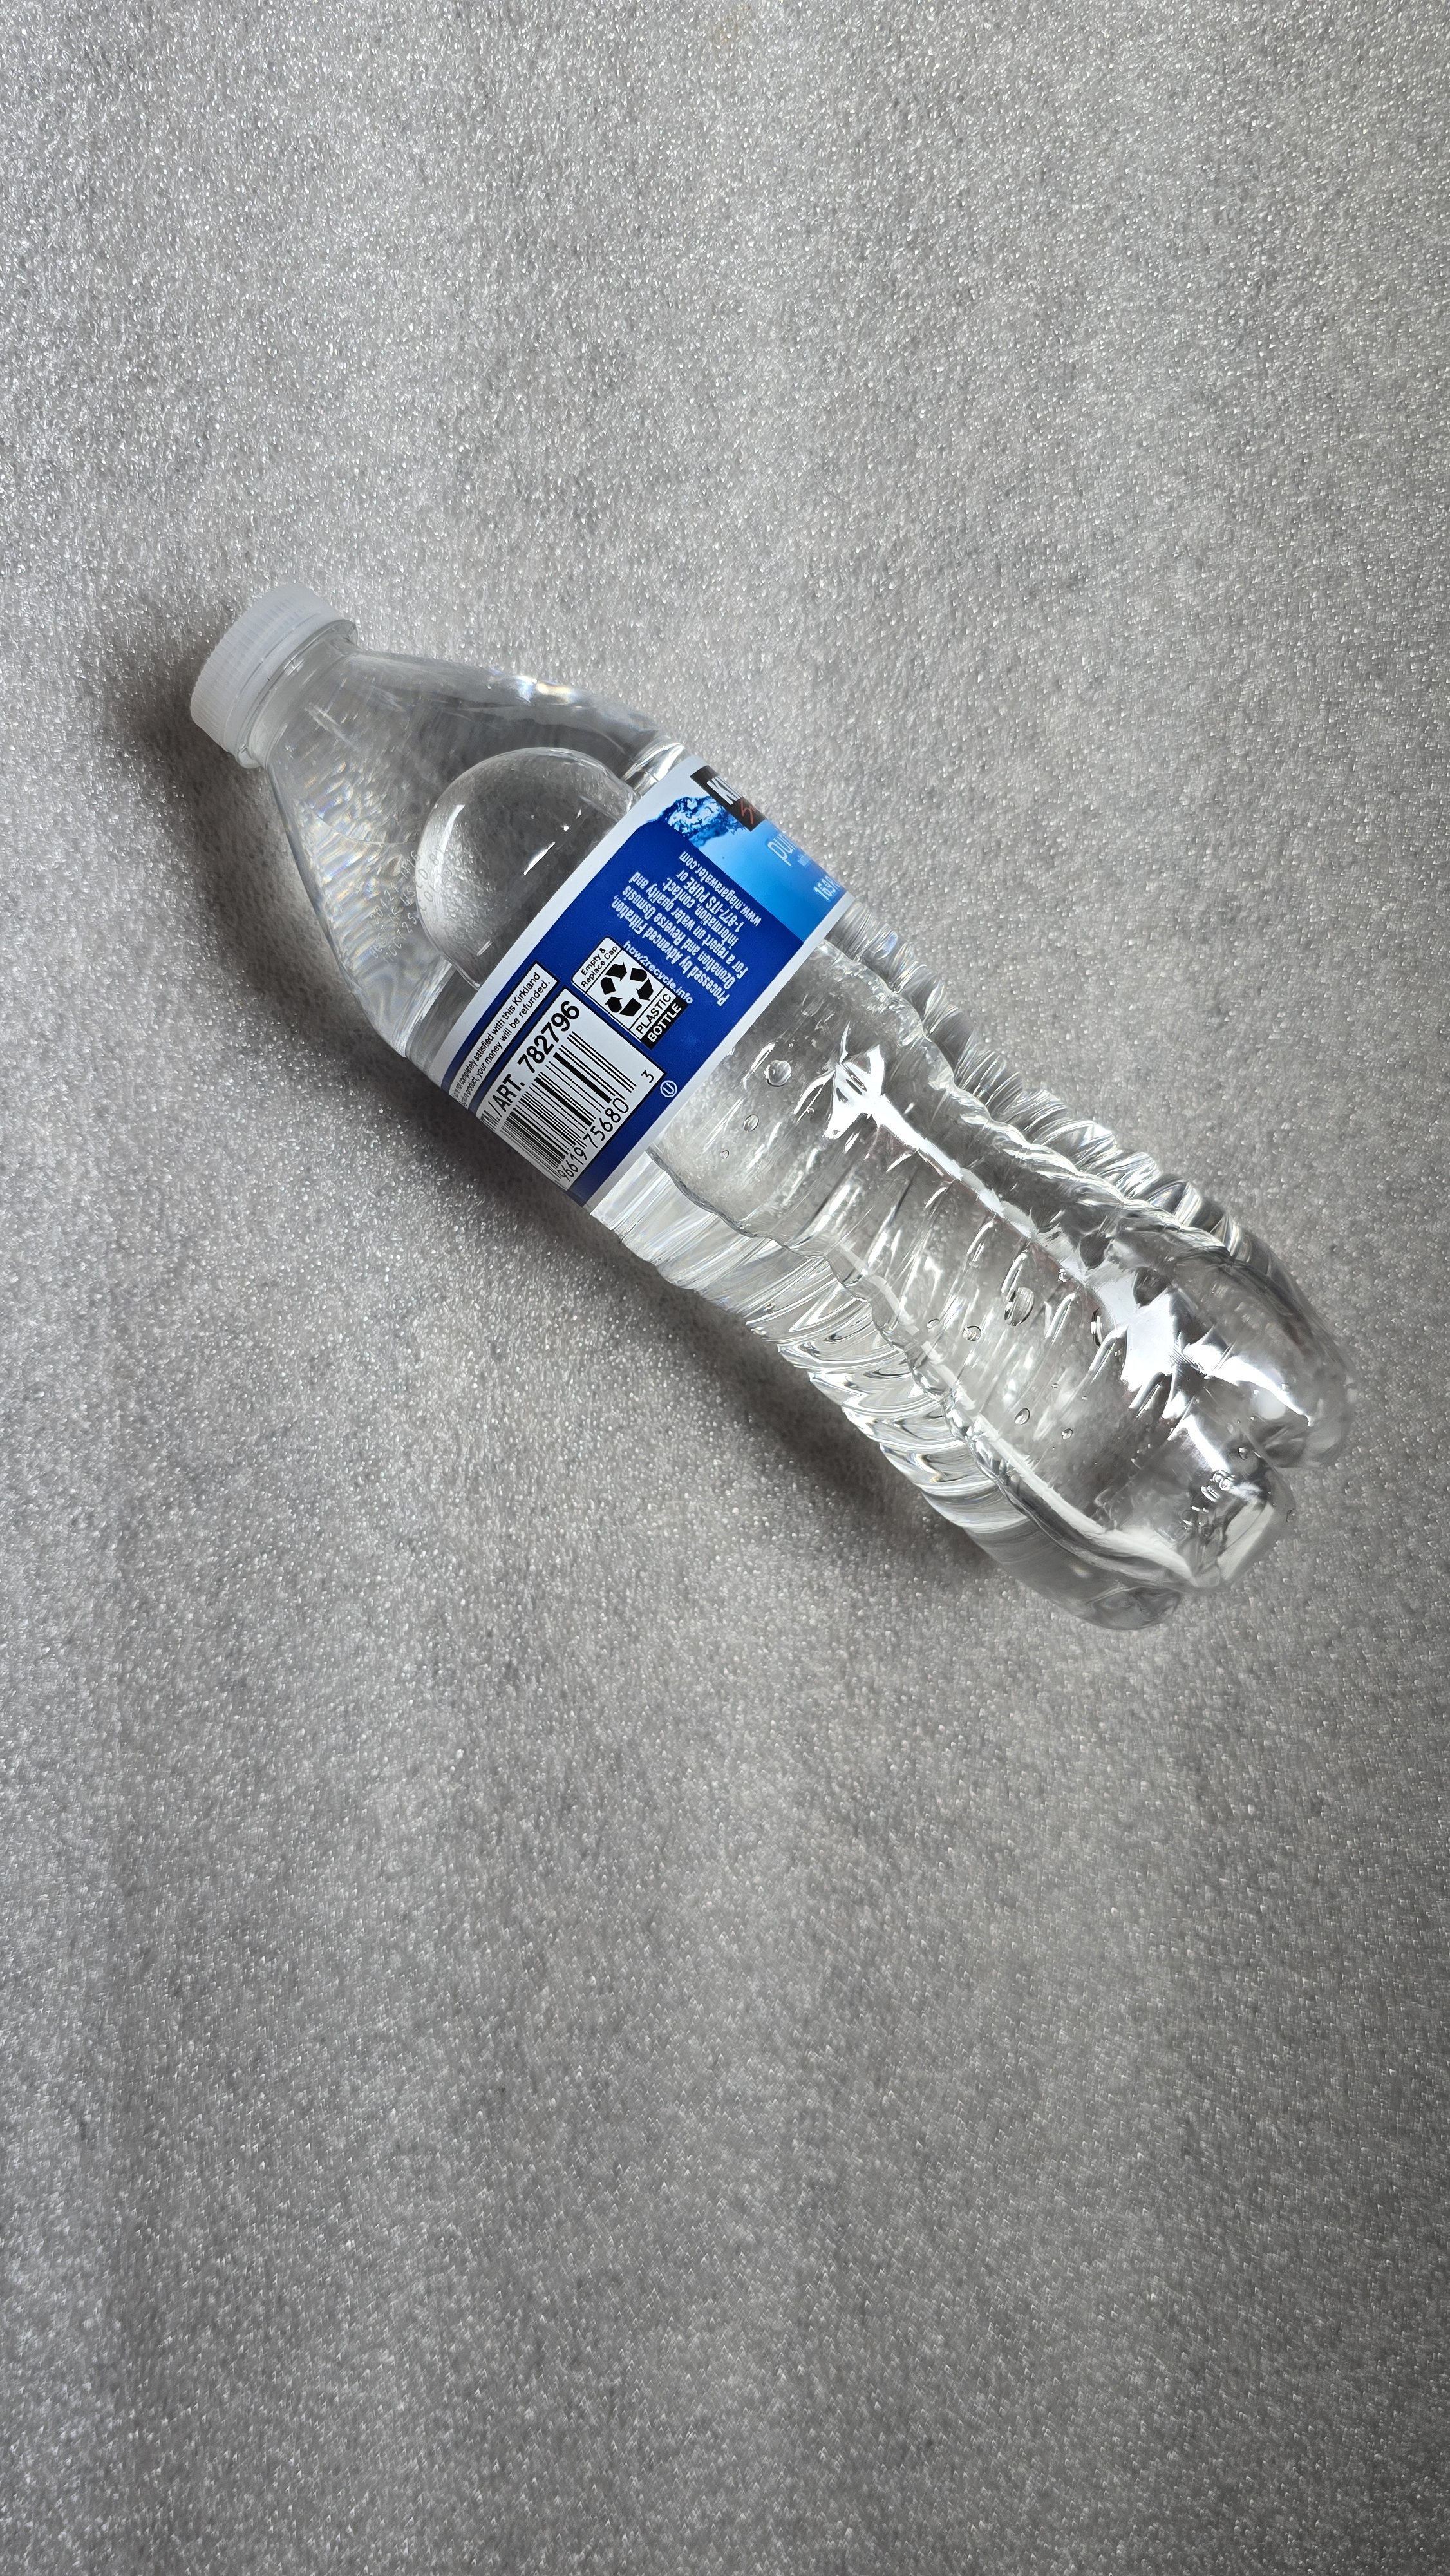bottle: (146, 585, 1394, 1634)
